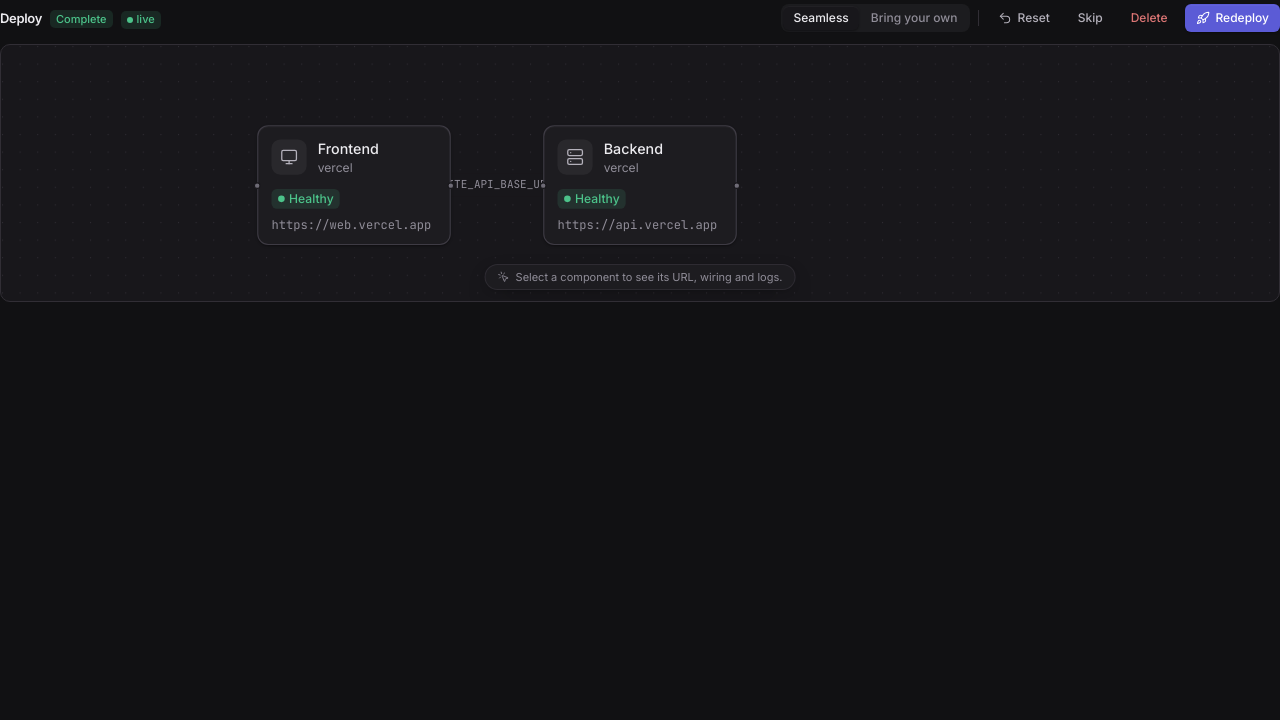
Test case: resetting deploy › asks before taking the deployment down
Click the button with test id "deploy-reset": (1024, 18) [986,4,1061,32]
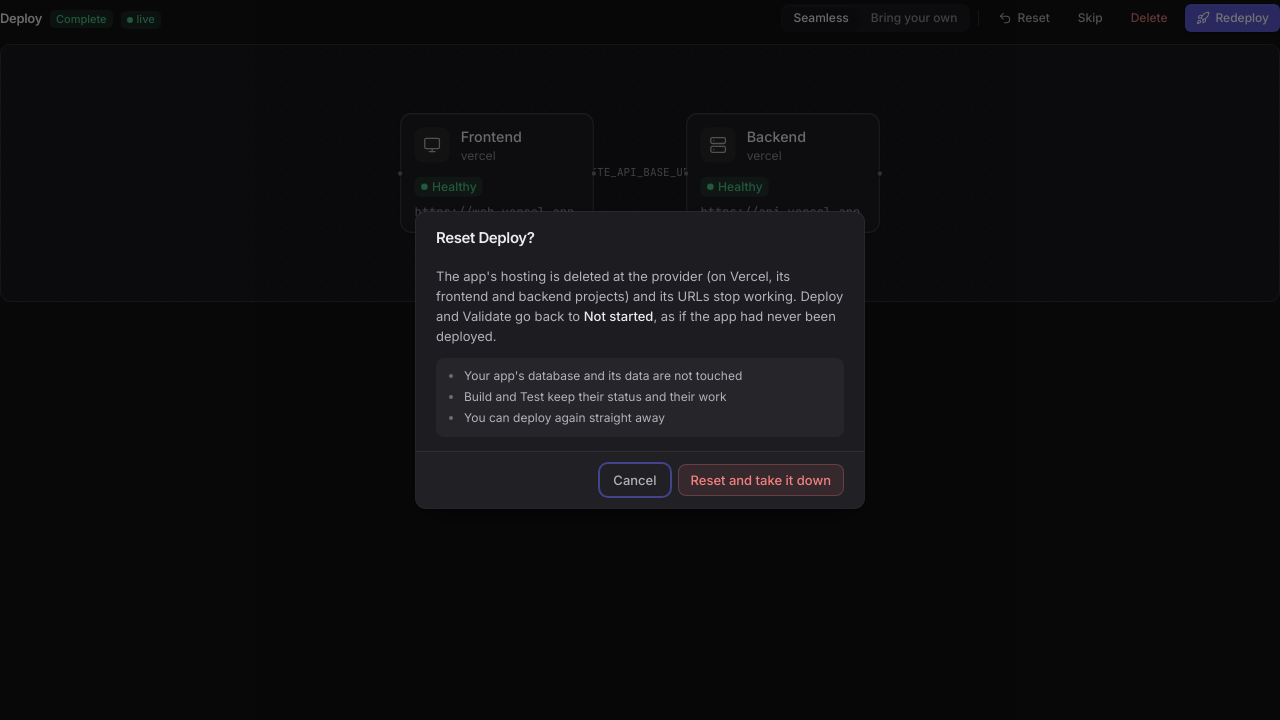
Check: the heading "Reset Deploy?" is shown, box [436,228,535,247]
